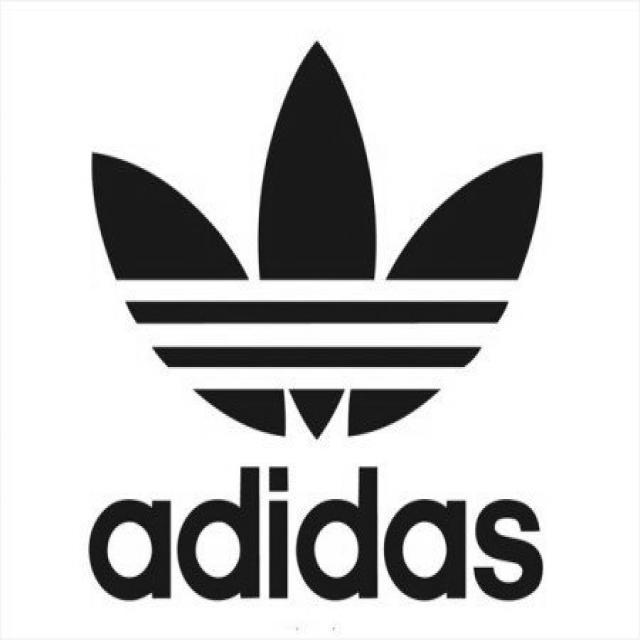Adidas: (63, 20, 556, 626)
